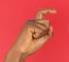anticlockwise: (14, 5, 58, 55)
